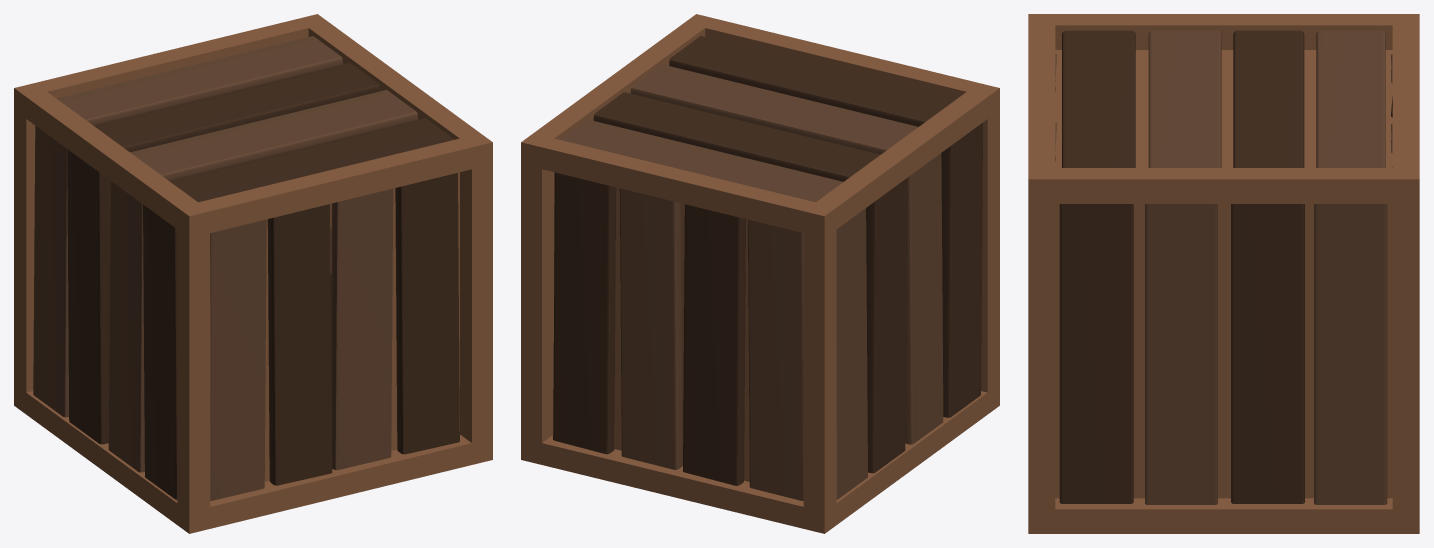
File: caja game jam.fbx
3 renders of one model, left to right at view 1: azimuth 30°, elevation 25°; view 2: azimuth 150°, elevation 25°; view 3: azimuth 270°, elevation 25°, orthographic. The views are drawn at different scales.
Parts seen in each view (by area): view 1: pCube156; view 2: pCube156; view 3: pCube156.
Boxes of the visible parts, bbox=[...] form: pCube156: bbox=[14, 14, 492, 533]; pCube156: bbox=[521, 14, 999, 533]; pCube156: bbox=[1028, 14, 1419, 533].
Size of the model in its own units: 2.89 by 2.89 by 2.89.
